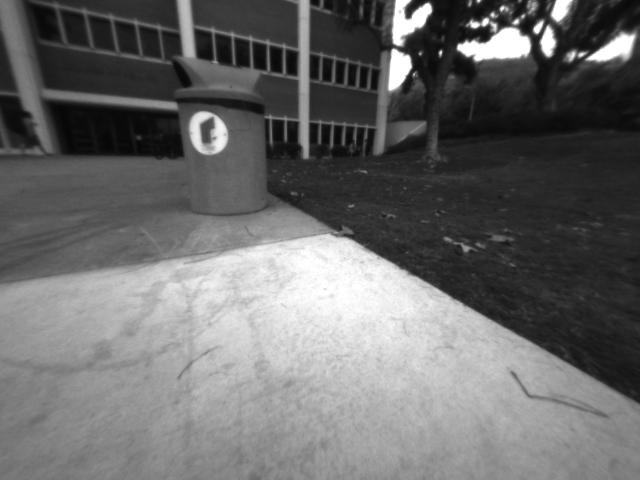trashcan: (166, 51, 272, 216)
